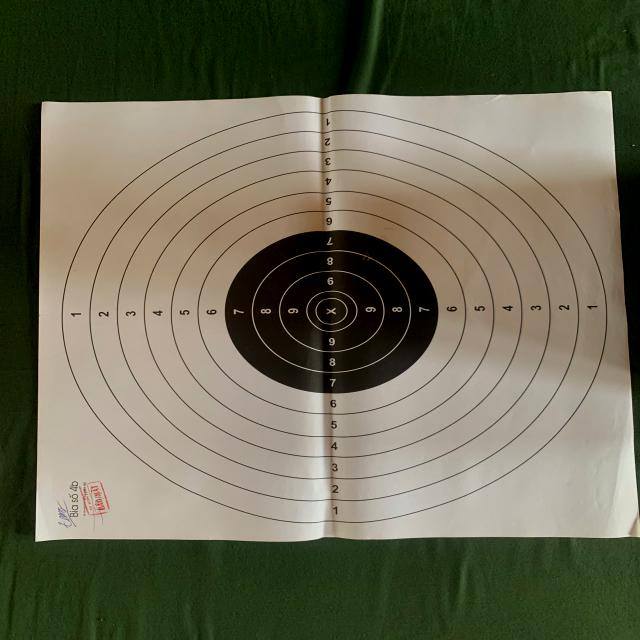bullet: (363, 256, 373, 262)
target: (35, 92, 637, 541)
